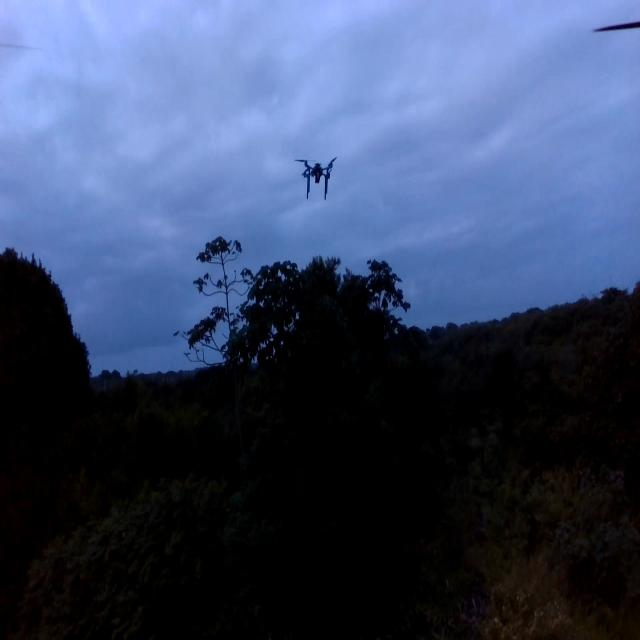-uav-: (292, 146, 342, 204)
